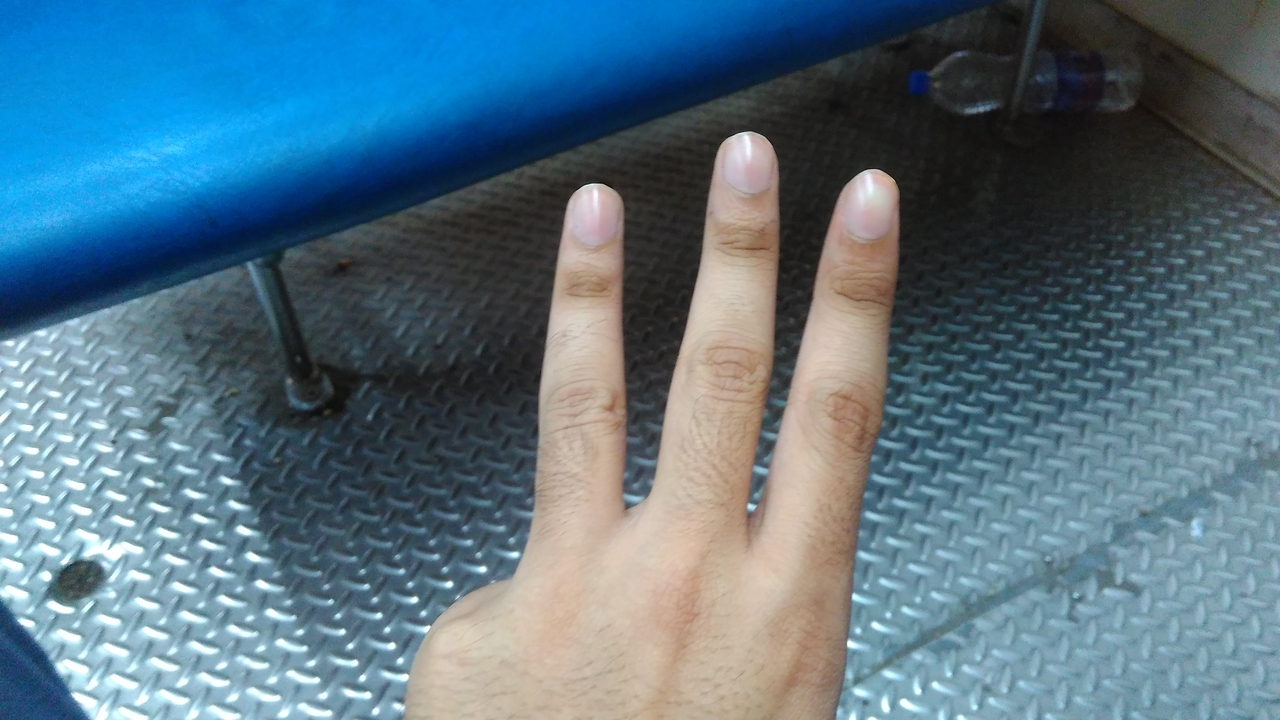fingertip: (834, 158, 908, 238), (554, 174, 628, 250), (710, 126, 784, 196)
